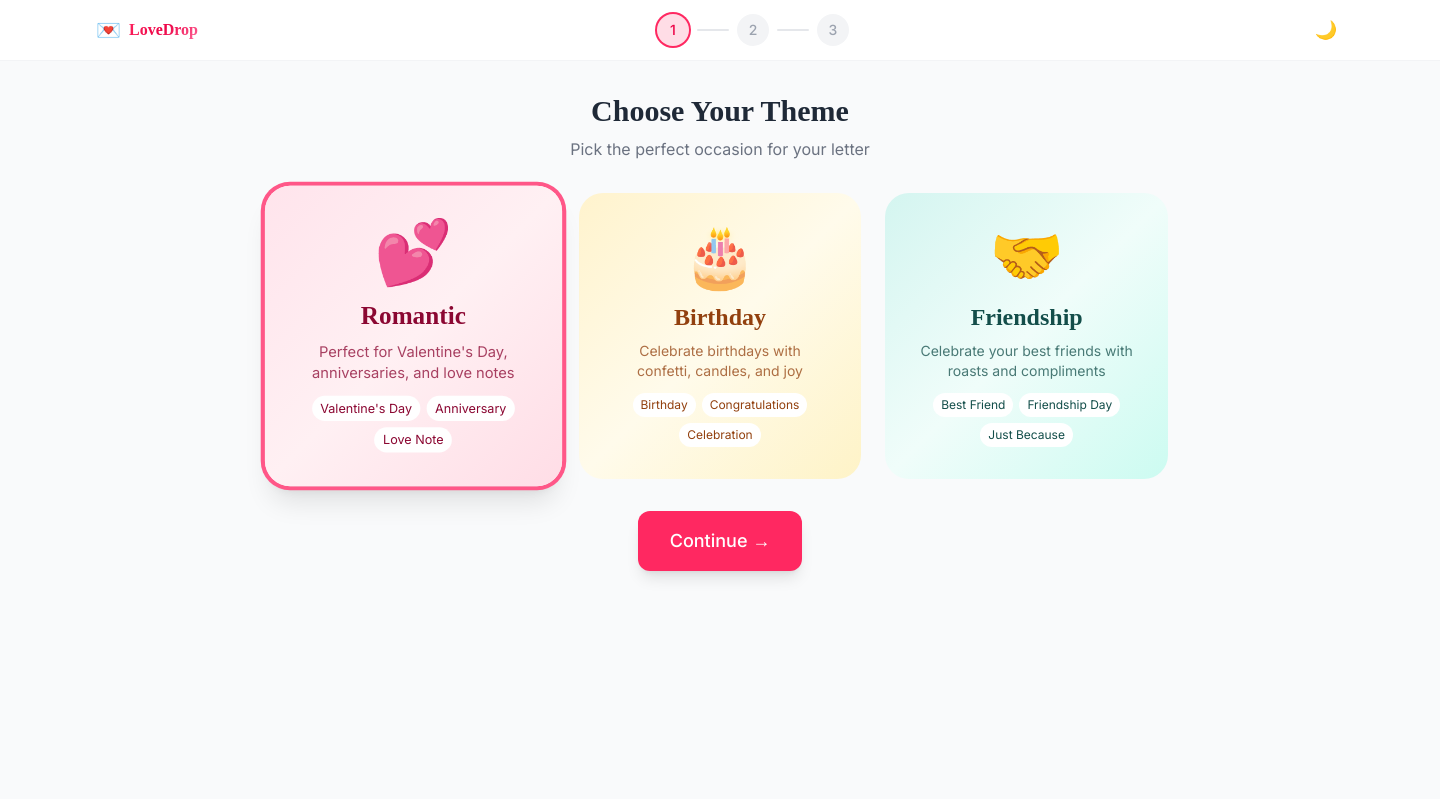
Scenario: Create flow - Step 2: Letter editing › shows sender and recipient inputs
Click the button "Continue →".
click(720, 541)  # box top-left (638, 511), bottom-right (802, 571)
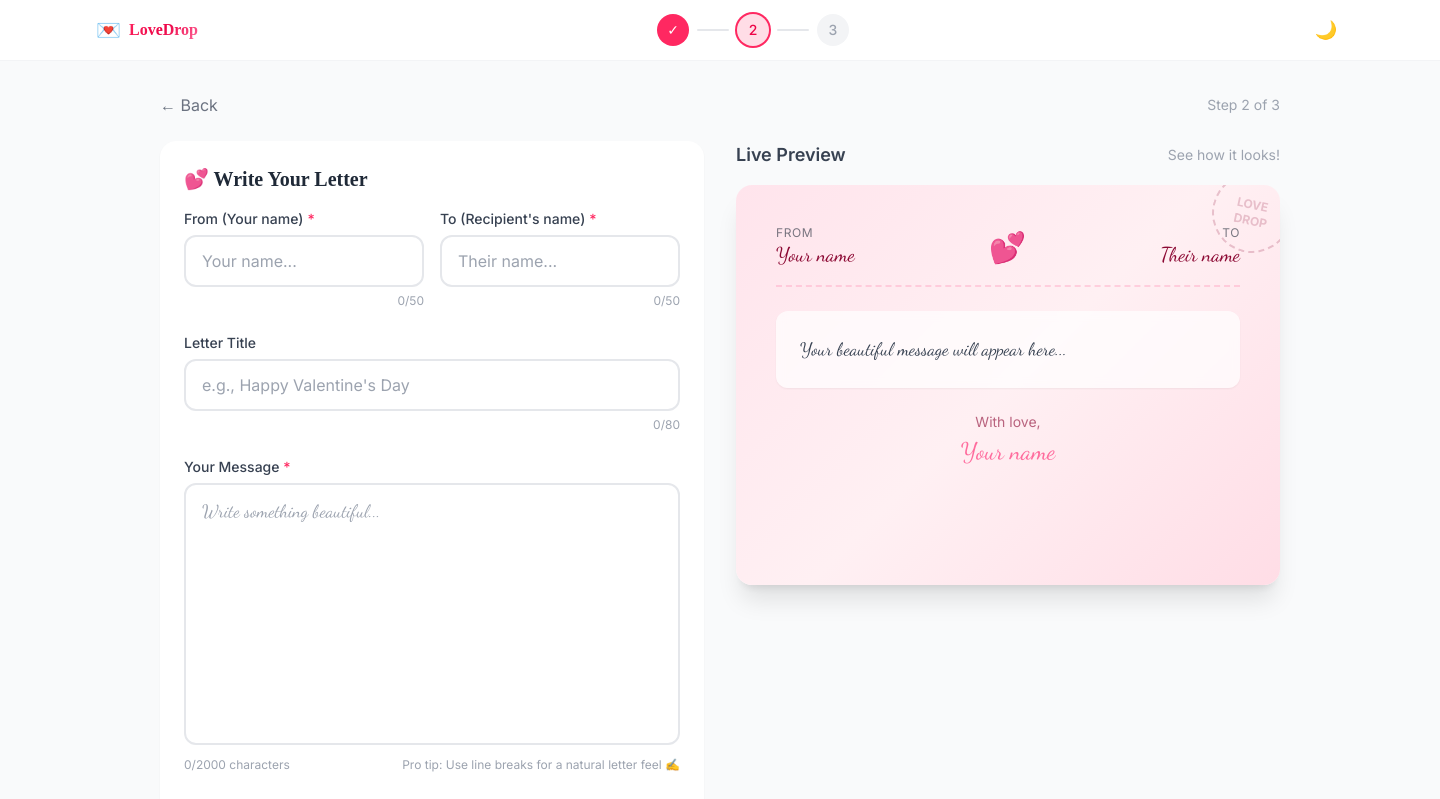
expect the field with placeholder "Your name..." is shown: met, box top-left (184, 235), bottom-right (424, 287)
expect the field with placeholder "Their name..." is shown: met, box top-left (440, 235), bottom-right (680, 287)
